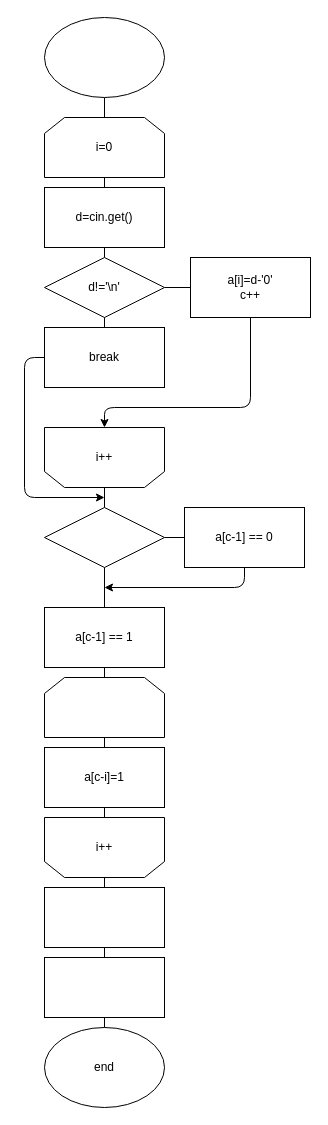
This 328x1125 diagram has some shape labels left out. The shapes that lost their labels are listed below. From the top down, each one's centre as x and y in pixels, then its label:
At point (104, 57): "begin".
At point (104, 537): "a[c-1] ==1".
At point (104, 707): "i=2 a[c-i] != 1".
At point (104, 917): "a[c-i]=0".
At point (104, 987): "output a[]".
